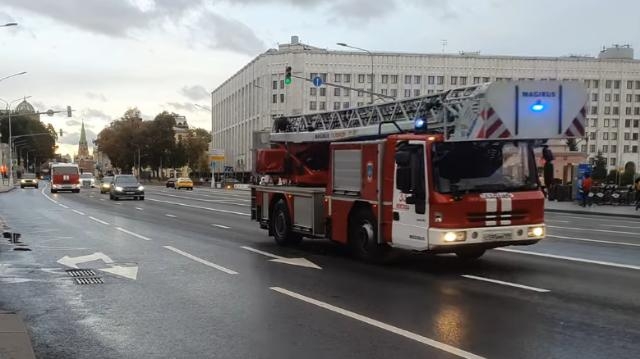fire fighting vehicle: (250, 79, 590, 267), (50, 163, 80, 193)
non emergency car: (110, 174, 146, 202), (20, 173, 40, 189), (82, 172, 96, 188), (175, 178, 193, 190), (100, 176, 110, 194), (165, 178, 175, 188)
